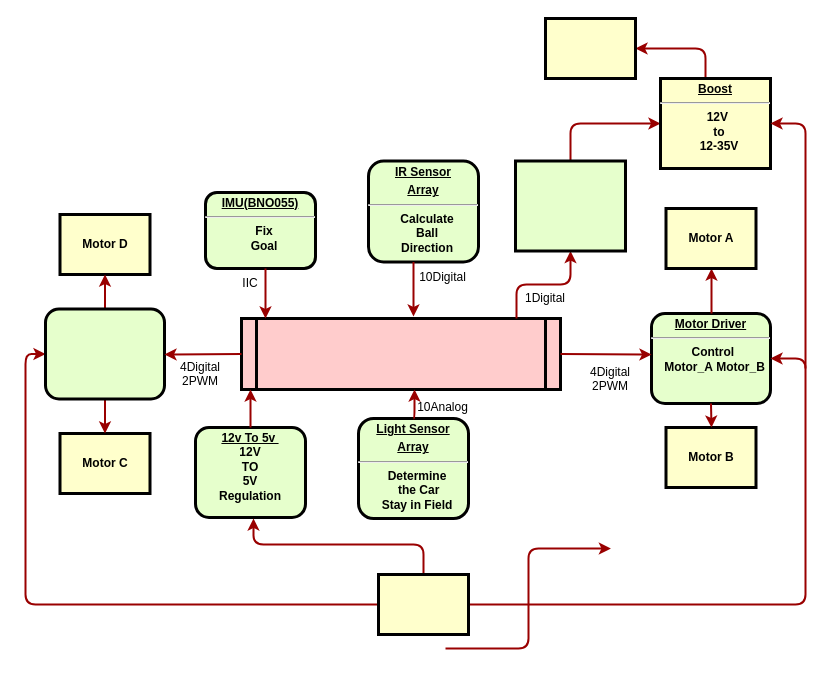
Some shapes in this 831 by 675 pixel diagram are drawn without their labels. The box of each missing label's shape, as (x1, y1, x2, y2) in pixels:
12V 3S Lipo: (376, 572, 470, 636)
Kicker Get Signal: (514, 159, 626, 252)
MCU(Teensy3.6): (240, 316, 562, 390)
Motor Driver Control Motor_C Motor_D: (44, 307, 166, 400)
Solenoid: (544, 16, 636, 80)
